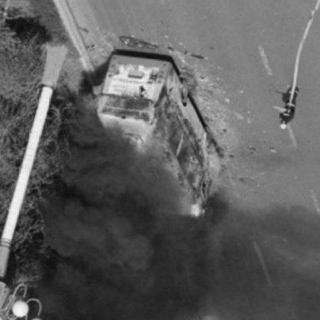Fire: (78, 66, 208, 222)
